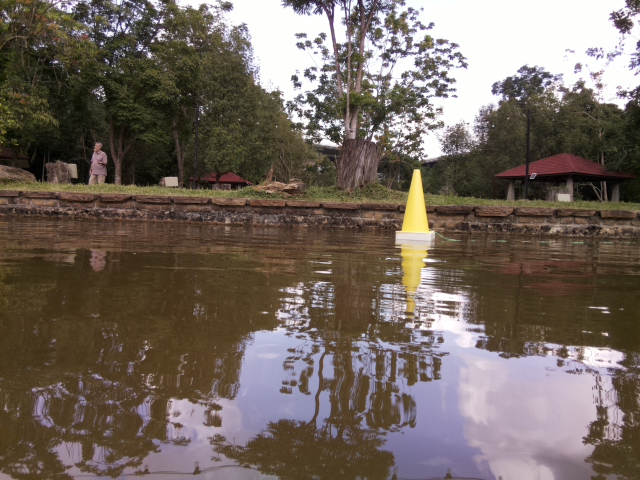checkpoint: (394, 169, 437, 242)
